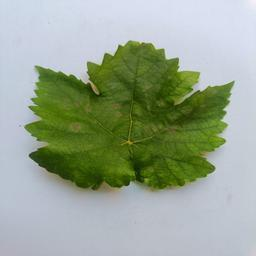Powdery-Mildew: (143, 118, 183, 146), (98, 154, 133, 186), (200, 117, 225, 151), (139, 80, 164, 110), (103, 95, 129, 123), (114, 44, 148, 65), (142, 158, 167, 184), (65, 117, 89, 143), (175, 71, 200, 95), (37, 79, 55, 110)
